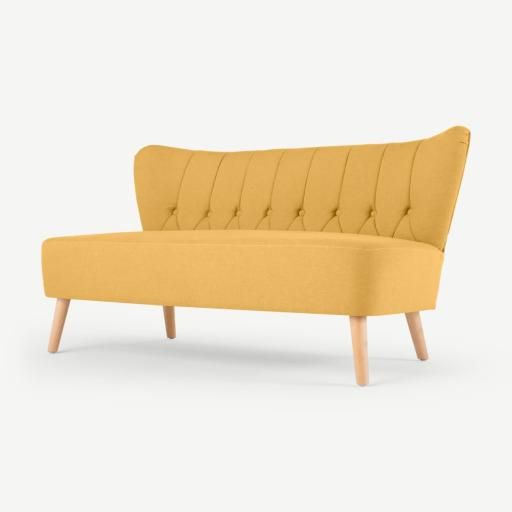back_cushion: (136, 127, 469, 250)
legs: (350, 316, 368, 385), (48, 299, 70, 353), (407, 312, 427, 357), (164, 306, 176, 339)
one-seater: (42, 126, 470, 385)
seat_cushion: (42, 230, 443, 315)
